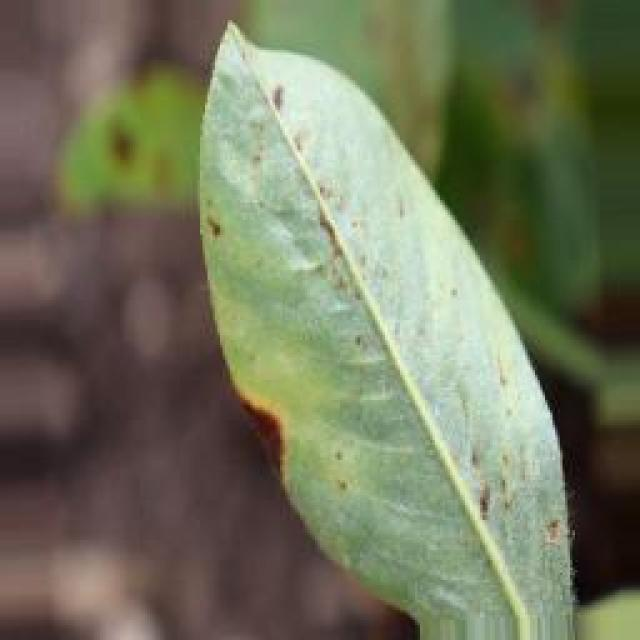Early_leaf_spot: (225, 358, 309, 498), (299, 181, 366, 304), (433, 444, 503, 540), (512, 493, 579, 577), (187, 198, 235, 269), (387, 175, 427, 257), (258, 75, 304, 144)
